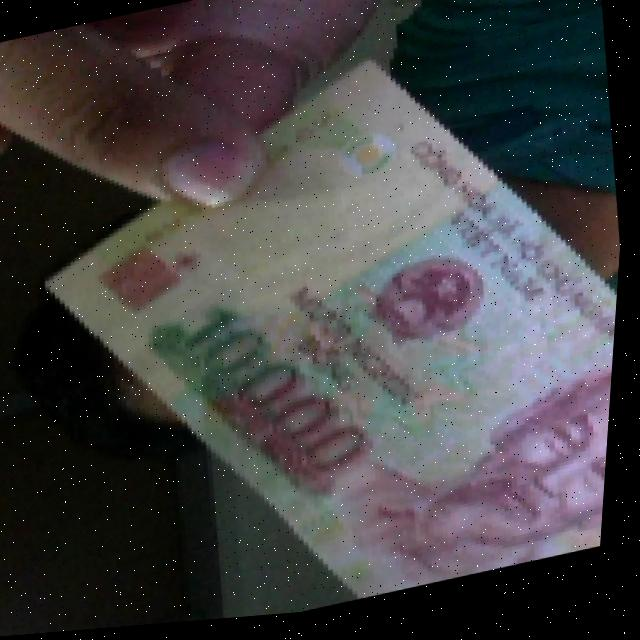10 000 VND: (0, 13, 637, 638)
